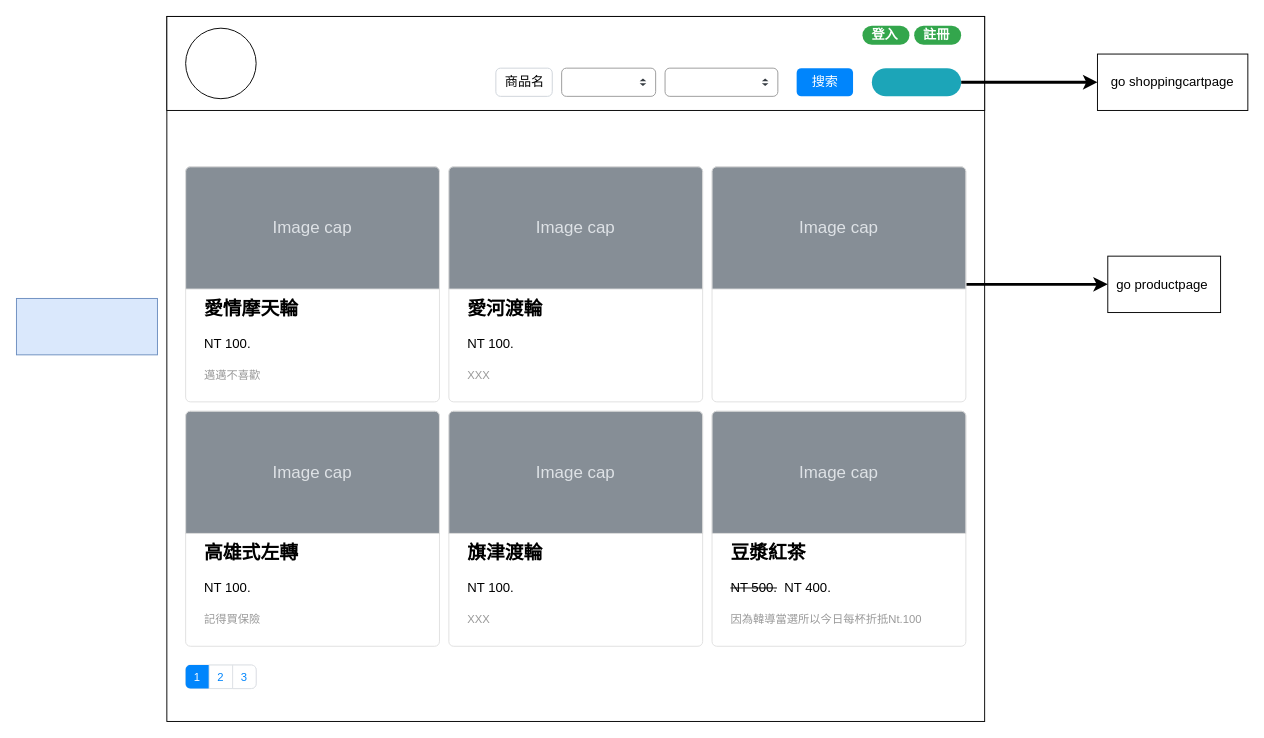
The diagram is 1264 pixels wide and 738 high, and some of its shapes have lost their labels. The shapes that lost their labels are listed below. From the top down, each one's centre as x and y in pixels, then its label:
the point at 220,63: logo
the point at 608,81: 類別
the point at 721,81: 是否有優惠
the point at 916,82: 我的購物車
the point at 838,284: 仁武烤鴨 NT 100. 排隊排到死
the point at 86,326: PTC-1:查詢產品類別資料 PT-2:分頁查詢產品資料
